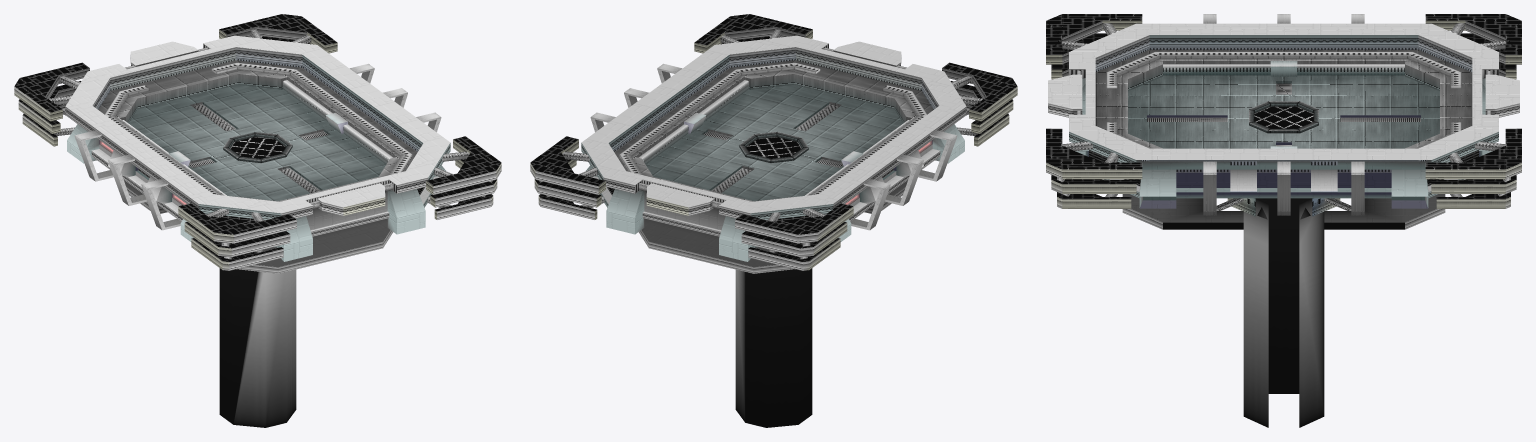
File: pokemonstadium.glb
The picture shows the model from 3 angles, left to right: view 1: azimuth 30°, elevation 25°; view 2: azimuth 150°, elevation 25°; view 3: azimuth 270°, elevation 25°; orthographic projection. The views are drawn at different scales.
Size of the model in its own units: 140 by 131 by 177.
Materials: 16 (15 with a texture image).
